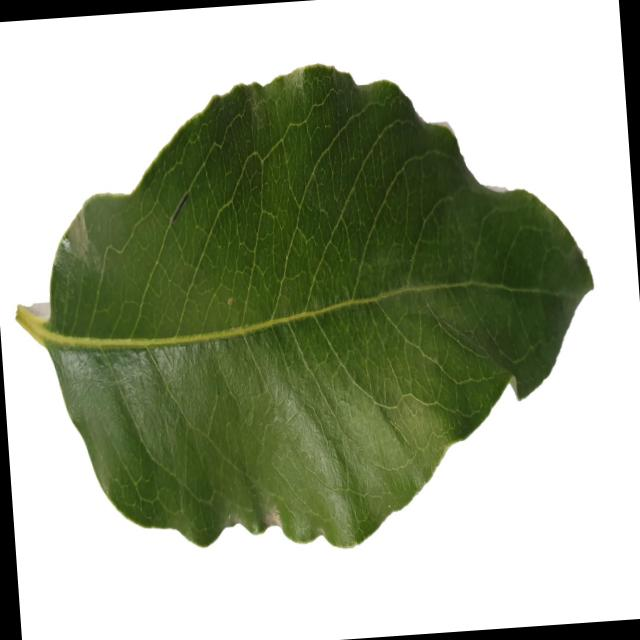Medicinal-Sandalwood: (0, 43, 612, 566)
